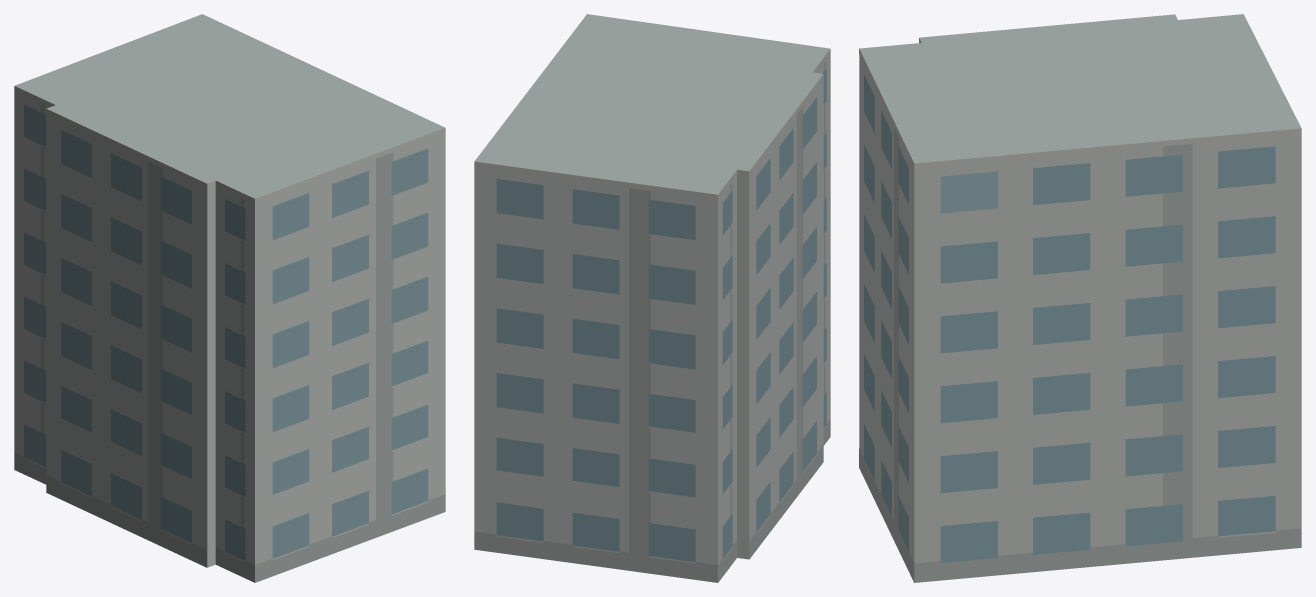
The model's file is survey-upis-32709157.glb.
3 renders of one model, left to right at view 1: azimuth 30°, elevation 25°; view 2: azimuth 150°, elevation 25°; view 3: azimuth 270°, elevation 25°, orthographic. The views are drawn at different scales.
Visible parts, largest first — view 1: survey-upis-32709157.tmp; view 2: survey-upis-32709157.tmp; view 3: survey-upis-32709157.tmp.
Part boxes in pixels (x1,y1,x2,y2): survey-upis-32709157.tmp: (14,14,445,582); survey-upis-32709157.tmp: (474,14,830,582); survey-upis-32709157.tmp: (859,14,1301,582).
Bounding box in the file's own units: 14 × 18.3 × 17.51.
